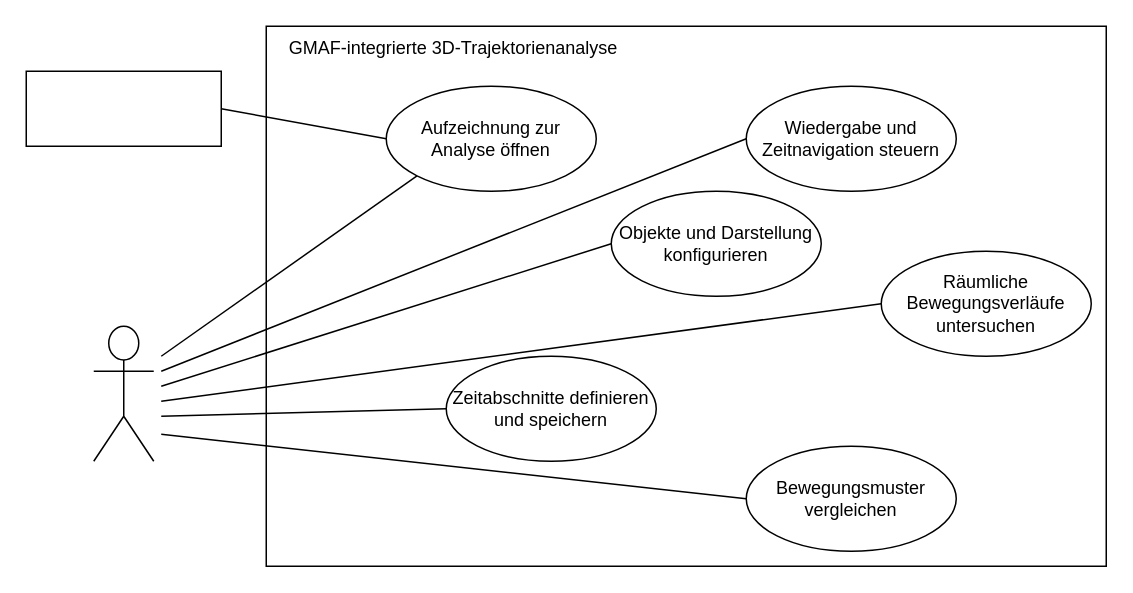
Image size: 1133x593. Some labels were removed from this diagram. The shapes that lost their labels are listed below. From the top down, each one's centre as x and y in pixels, then its label:
At (123,108): "«actor» GMAF-Datenbereitstellung".
At (123,393): "Analysierende Person".
